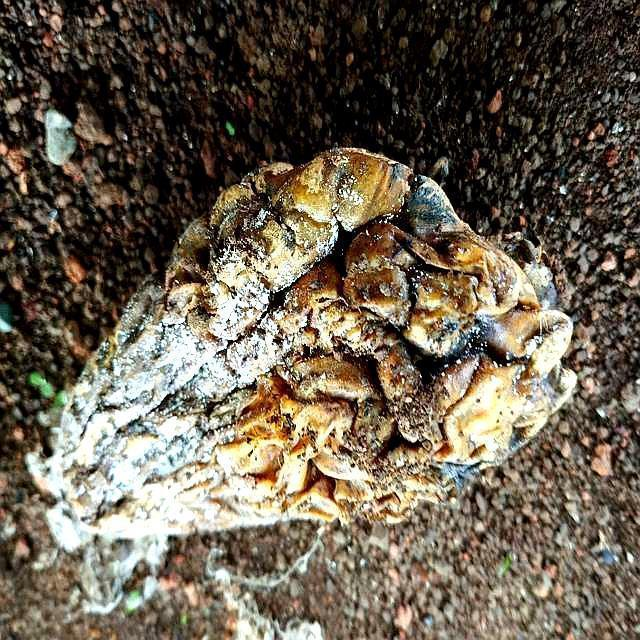Biodegradable: (55, 145, 557, 549)
